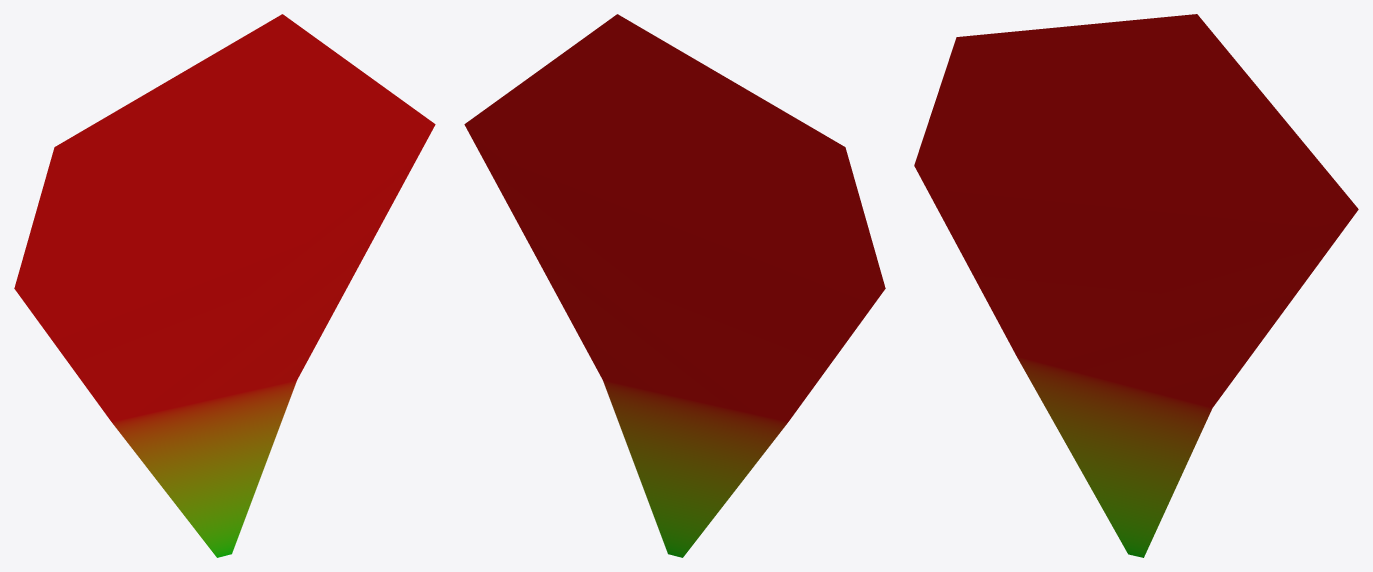
The picture shows the model from 3 angles, left to right: view 1: azimuth 30°, elevation 25°; view 2: azimuth 150°, elevation 25°; view 3: azimuth 330°, elevation 25°; orthographic projection. The views are drawn at different scales.
Visible parts, largest first — view 1: _p8so_Var12_LOD4; view 2: _p8so_Var12_LOD4; view 3: _p8so_Var12_LOD4.
Part boxes in pixels (bbox=[...]): _p8so_Var12_LOD4: bbox=[14, 14, 435, 557]; _p8so_Var12_LOD4: bbox=[464, 14, 885, 557]; _p8so_Var12_LOD4: bbox=[914, 14, 1358, 557].
Size of the model in its own units: 198 by 237 by 2.91e-11.
